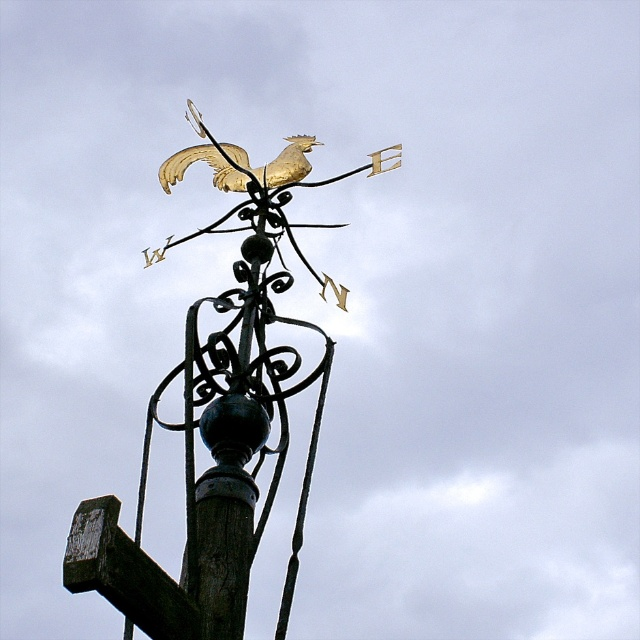Chicken: (155, 123, 327, 191)
